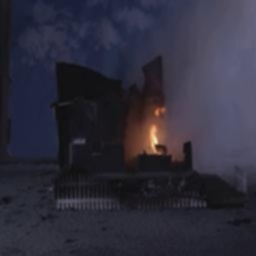fire: (137, 104, 173, 153)
smoke: (176, 0, 256, 134)
